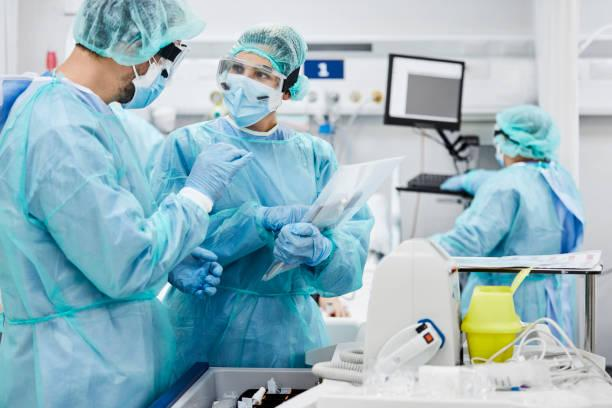Gloves On: (184, 143, 252, 201), (169, 247, 222, 297), (275, 222, 331, 266), (263, 204, 308, 232)
Hairnet On: (73, 0, 204, 65), (230, 24, 307, 76), (496, 104, 561, 160), (290, 76, 308, 100)
Mask On: (222, 73, 282, 126), (123, 57, 175, 108)
Suit On: (0, 75, 209, 407), (152, 117, 373, 370)
